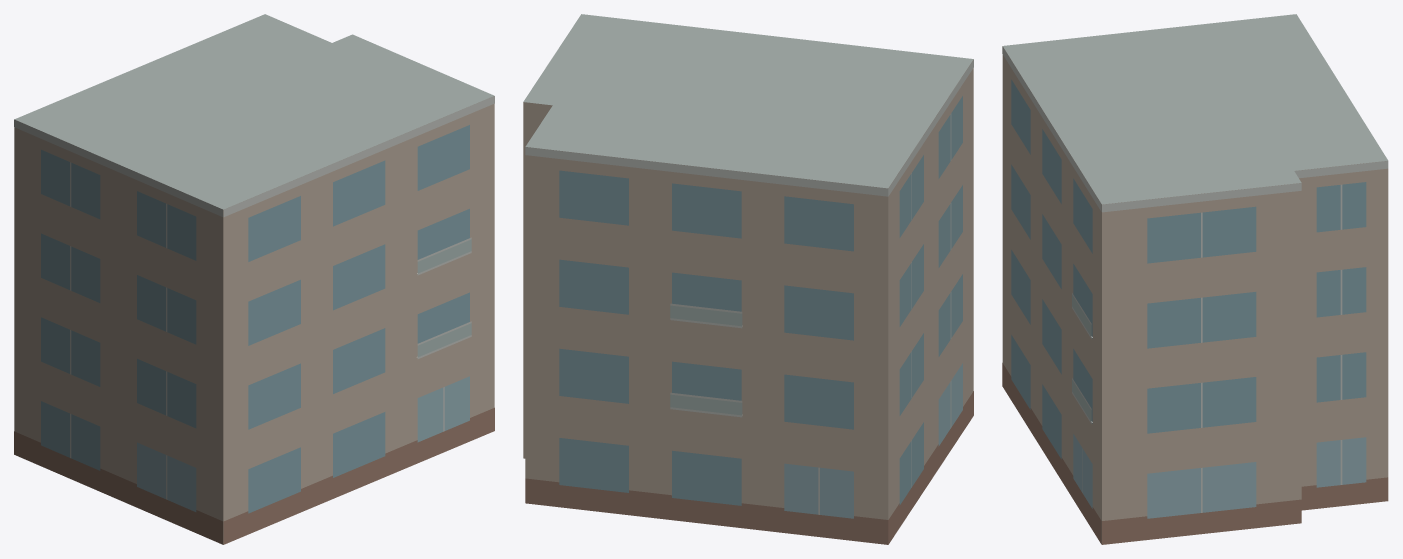
File: survey-upis-32696037.glb
3 renders of one model, left to right at view 1: azimuth 30°, elevation 25°; view 2: azimuth 150°, elevation 25°; view 3: azimuth 270°, elevation 25°, orthographic. The views are drawn at different scales.
Parts seen in each view (by area): view 1: survey-upis-32696037.tmp; view 2: survey-upis-32696037.tmp; view 3: survey-upis-32696037.tmp.
Boxes of the visible parts, x1,y1,x2,y2 form: survey-upis-32696037.tmp: (14,14,494,544); survey-upis-32696037.tmp: (523,14,973,544); survey-upis-32696037.tmp: (1002,14,1388,544).
Size of the model in its own units: 12.62 by 10.5 by 10.8.
